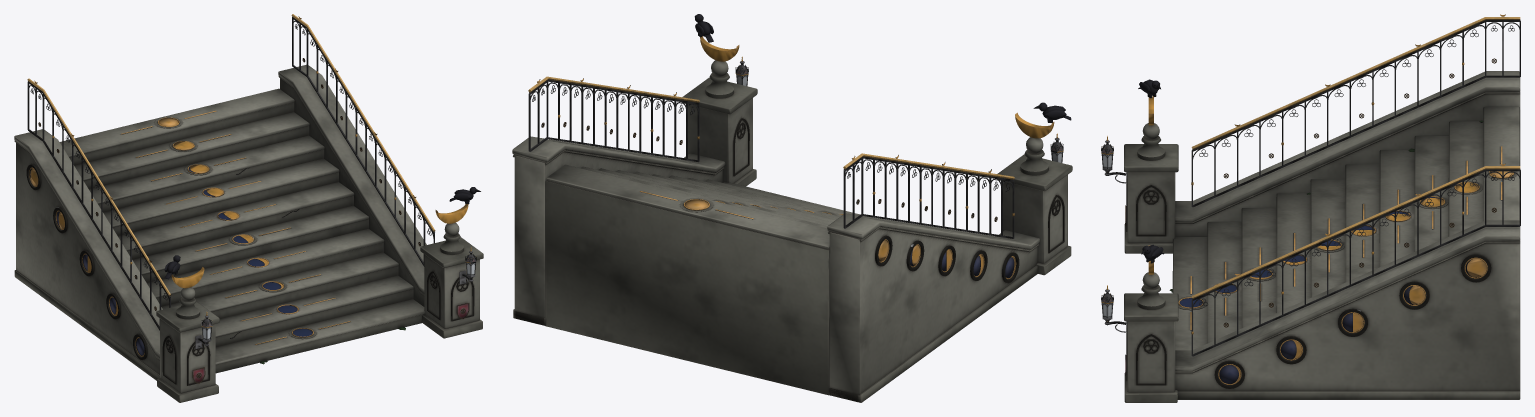
The model's file is EntranceMoonStair.fbx.
The picture shows the model from 3 angles, left to right: view 1: azimuth 30°, elevation 25°; view 2: azimuth 150°, elevation 25°; view 3: azimuth 270°, elevation 25°; orthographic projection. The views are drawn at different scales.
Visible parts, largest first — view 1: EntranceMoonStair_Main, EntranceMoonStair_Cheeks, EntranceMoonStair_Piers, EntranceMoonStair_Rail; view 2: EntranceMoonStair_Main, EntranceMoonStair_Cheeks, EntranceMoonStair_Piers, EntranceMoonStair_Rail; view 3: EntranceMoonStair_Cheeks, EntranceMoonStair_Main, EntranceMoonStair_Piers, EntranceMoonStair_Rail.
Boxes of the visible parts, x1=… form: EntranceMoonStair_Main: x1=60, y1=88, x2=424, y2=373; EntranceMoonStair_Cheeks: x1=14, y1=64, x2=426, y2=380; EntranceMoonStair_Piers: x1=156, y1=187, x2=483, y2=402; EntranceMoonStair_Rail: x1=27, y1=14, x2=435, y2=330; EntranceMoonStair_Main: x1=545, y1=164, x2=860, y2=395; EntranceMoonStair_Cheeks: x1=512, y1=136, x2=1039, y2=402; EntranceMoonStair_Piers: x1=682, y1=14, x2=1072, y2=275; EntranceMoonStair_Rail: x1=528, y1=76, x2=1014, y2=238; EntranceMoonStair_Cheeks: x1=1175, y1=71, x2=1520, y2=399; EntranceMoonStair_Main: x1=1169, y1=107, x2=1520, y2=350; EntranceMoonStair_Piers: x1=1101, y1=79, x2=1178, y2=402; EntranceMoonStair_Rail: x1=1191, y1=14, x2=1520, y2=356.
Bounding box in the file's own units: 1592 × 955 × 1582.
